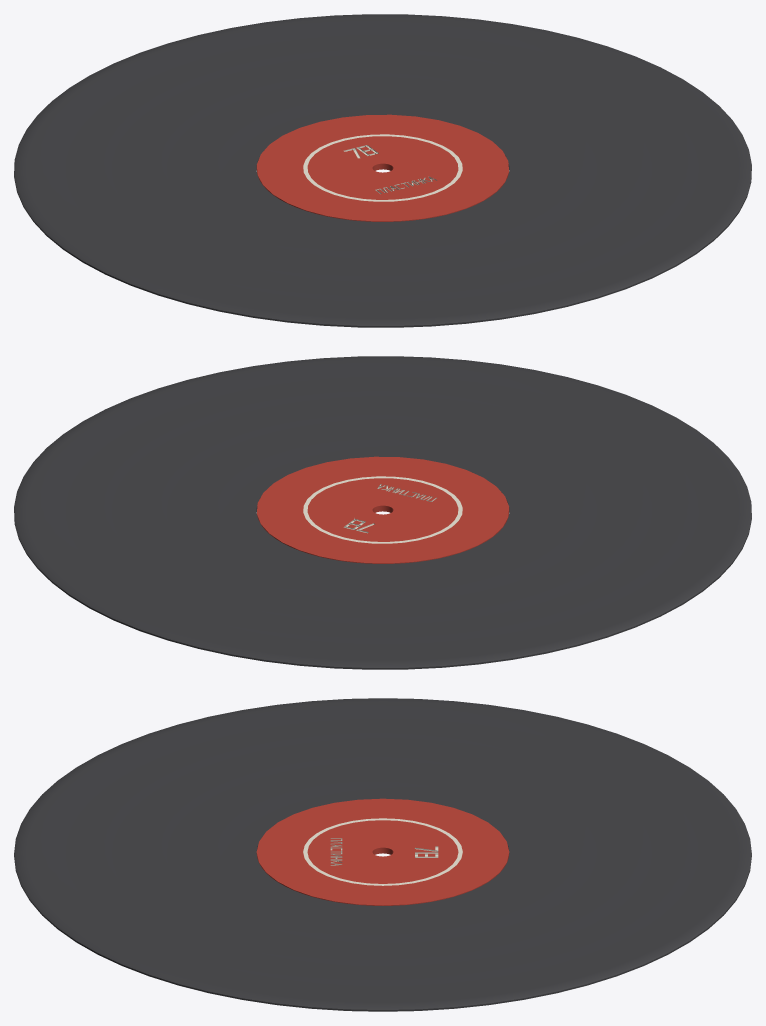
The model's file is record.glb.
3 views of the same model, one above another, from view 1: azimuth 30°, elevation 25°; view 2: azimuth 150°, elevation 25°; view 3: azimuth 270°, elevation 25° (orthographic).
Parts seen in each view (by area): view 1: disc, label; view 2: disc, label; view 3: disc, label.
Part boxes in pixels (bbox=[...]): disc: bbox=[14, 14, 751, 327]; label: bbox=[256, 114, 509, 221]; disc: bbox=[14, 356, 751, 669]; label: bbox=[256, 456, 509, 563]; disc: bbox=[14, 698, 751, 1011]; label: bbox=[256, 798, 509, 905].
Size of the model in its own units: 0.254 by 0.0028 by 0.254.
